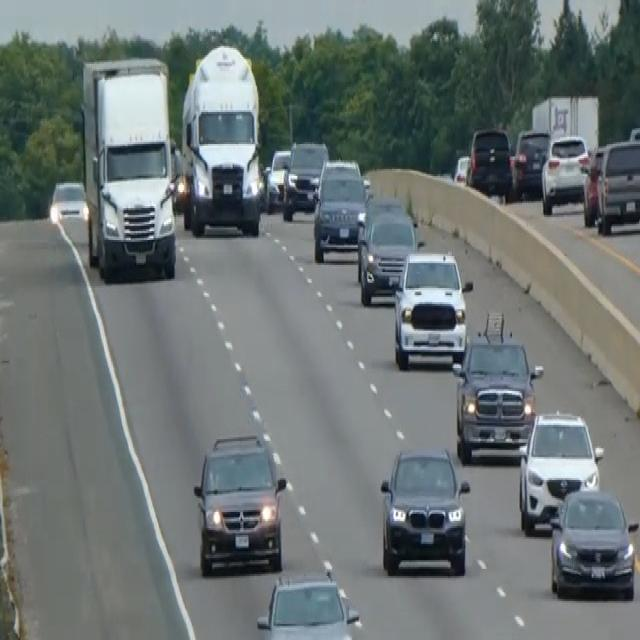car: (450, 311, 543, 464), (192, 430, 287, 574), (517, 407, 603, 533), (548, 485, 638, 601), (392, 247, 472, 370), (255, 569, 361, 638), (355, 194, 418, 306), (312, 158, 369, 262), (596, 135, 639, 233), (540, 132, 590, 214), (282, 137, 328, 219), (466, 124, 513, 201), (512, 126, 549, 198), (581, 144, 605, 226), (48, 178, 87, 224), (266, 146, 290, 202)
jeep: (378, 444, 471, 576)
lorry: (79, 53, 178, 281), (180, 41, 264, 236)
